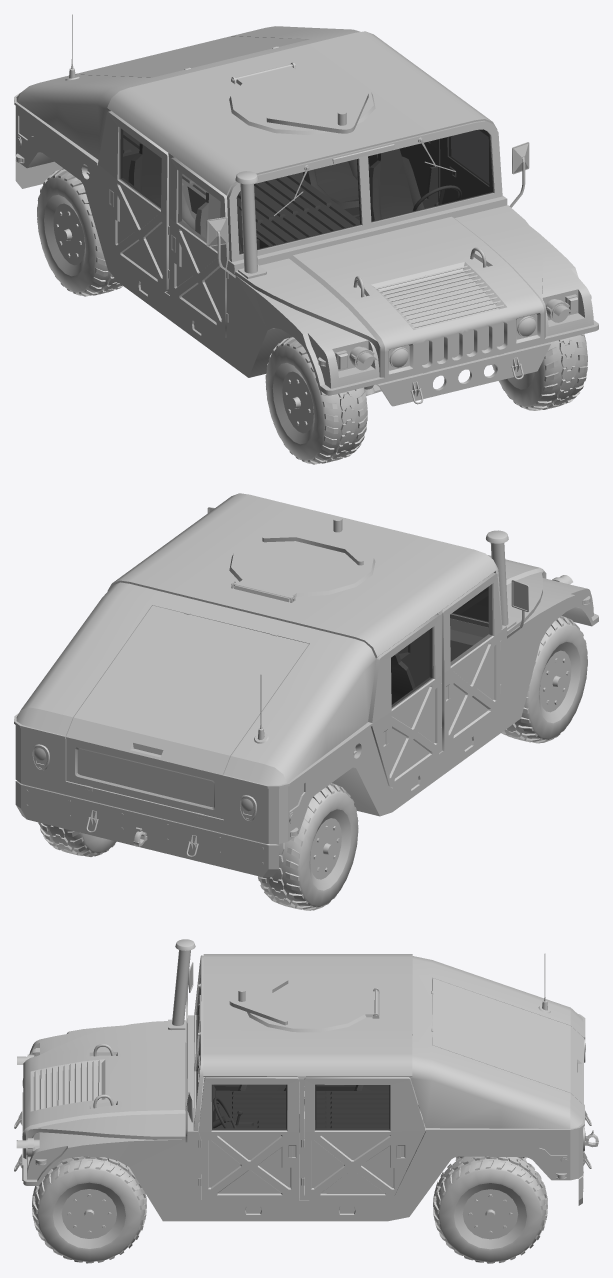
The model's file is army_vehicle.fbx.
3 renders of one model, top to bottom at view 1: azimuth 30°, elevation 25°; view 2: azimuth 150°, elevation 25°; view 3: azimuth 270°, elevation 25°, orthographic. The views are drawn at different scales.
Visible parts, largest first — view 1: vehicle.006, front_glass.006, tyre_right_1.006, hatch.006, door_right_2.006, tyre_right_2.006, door_right_1.006, tyre_left_1.006, door_back_2.006, door_glass_2.006, door_glass_1.006, door_left_1.006 (+1 smaller); view 2: vehicle.006, door_back_2.006, hatch.006, tyre_right_2.006, door_right_2.006, door_back.006, door_right_1.006, tyre_right_1.006, door_glass_2.006, door_glass_1.006, tyre_left_2.006, front_glass.006; view 3: vehicle.006, door_left_2.006, door_back_2.006, tyre_left_2.006, tyre_left_1.006, door_left_1.006, hatch.006, door_glass_3.006, door_glass_4.006.
Boxes of the visible parts, x1,y1,x2,y2 form: vehicle.006: (14,14,598,406); front_glass.006: (236,129,493,254); tyre_right_1.006: (265,336,367,464); hatch.006: (229,64,375,135); door_right_2.006: (98,111,168,292); tyre_right_2.006: (37,168,122,296); door_right_1.006: (170,157,229,337); tyre_left_1.006: (492,334,587,410); door_back_2.006: (75,36,308,77); door_glass_2.006: (119,128,161,209); door_glass_1.006: (178,171,220,250); door_left_1.006: (440,129,491,203); vehicle.006: (14,493,598,877); door_back_2.006: (66,605,309,776); hatch.006: (229,517,375,602); tyre_right_2.006: (258,783,358,910); door_right_2.006: (368,614,440,787); door_back.006: (66,739,223,819); door_right_1.006: (442,572,501,751); tyre_right_1.006: (501,616,587,743); door_glass_2.006: (391,627,433,708); door_glass_1.006: (450,584,492,665); tyre_left_2.006: (38,822,116,856); front_glass.006: (452,587,488,621); vehicle.006: (14,939,598,1221); door_left_2.006: (304,1077,424,1200); door_back_2.006: (432,978,583,1104); tyre_left_2.006: (433,1156,547,1263); tyre_left_1.006: (32,1156,146,1263); door_left_1.006: (198,1077,298,1200); hatch.006: (229,976,379,1032); door_glass_3.006: (212,1084,286,1130); door_glass_4.006: (315,1084,389,1130).
Bounding box in the file's own units: 239 × 180 × 431.
